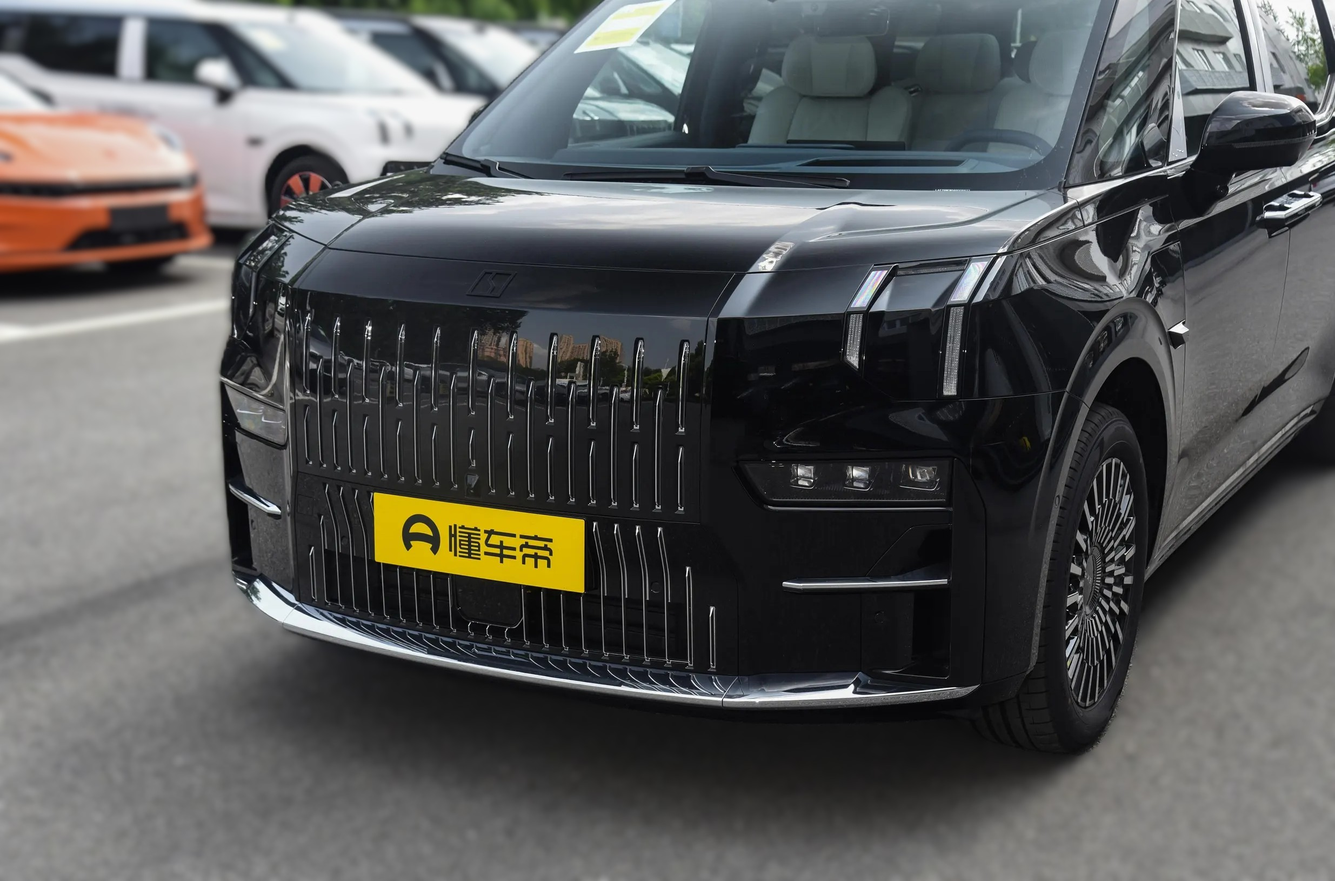ZEEKR: (466, 270, 516, 297)
